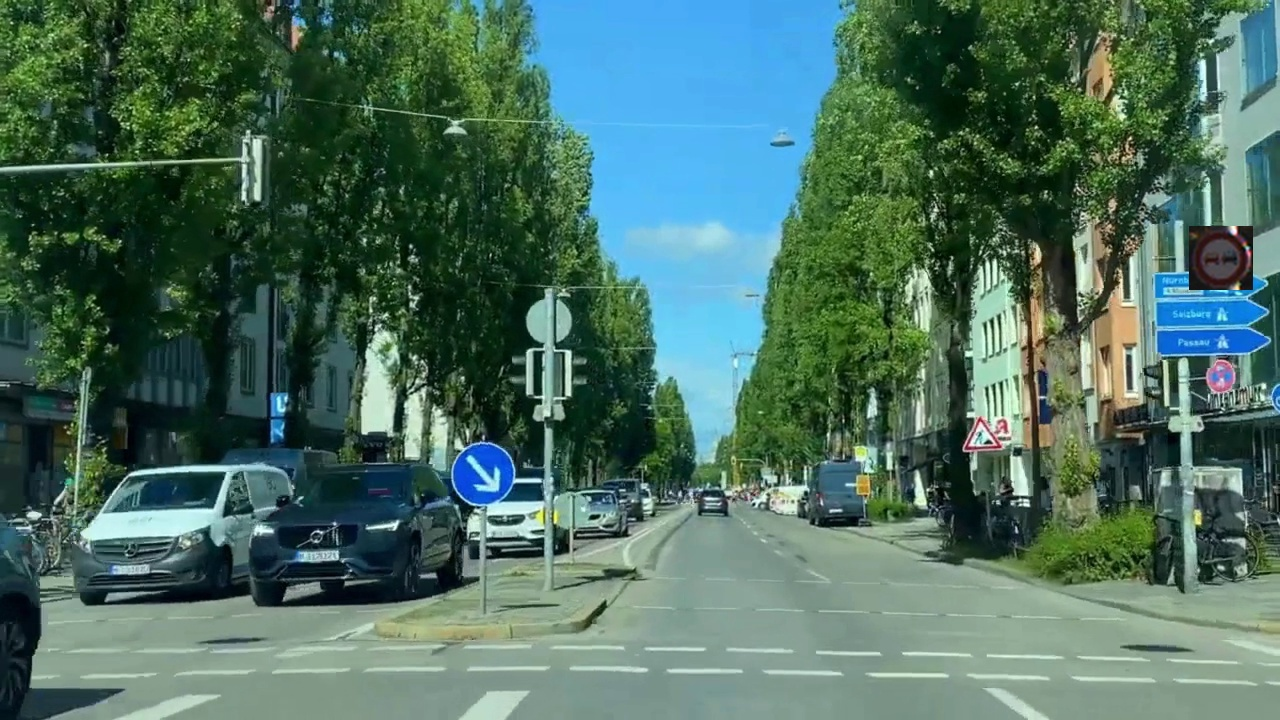No passing: (1189, 226, 1253, 290)
